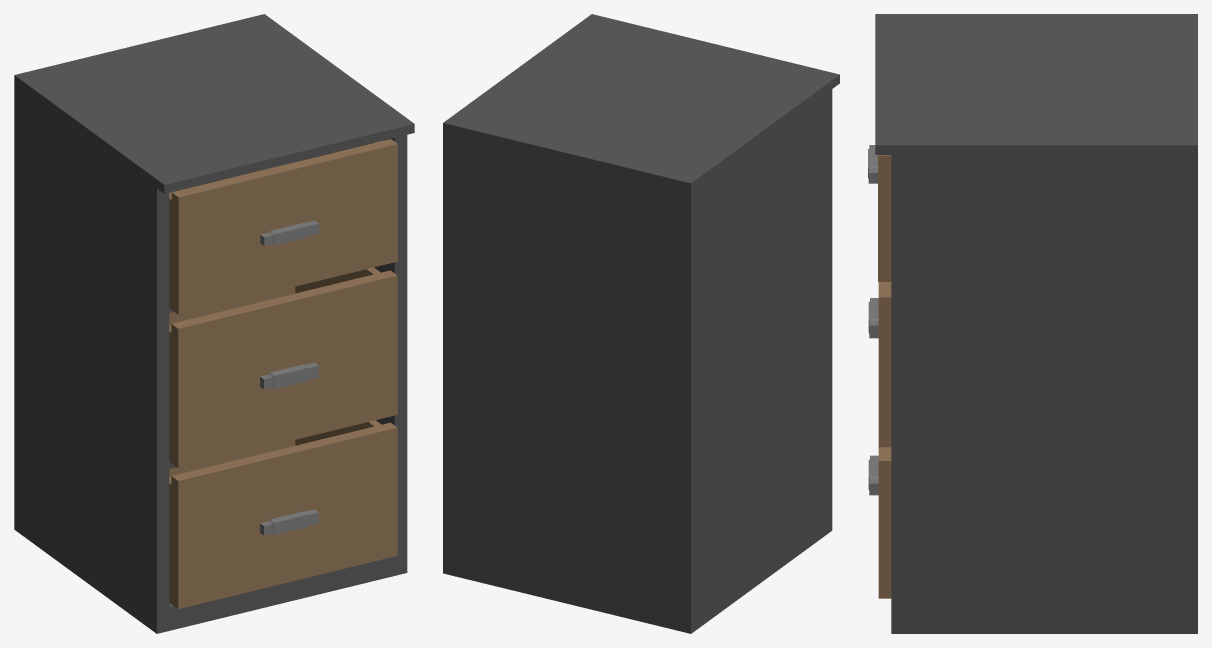
File: SmallCabinet_RuanganBoss.fbx
The picture shows the model from 3 angles, left to right: view 1: azimuth 30°, elevation 25°; view 2: azimuth 150°, elevation 25°; view 3: azimuth 270°, elevation 25°; orthographic projection. The views are drawn at different scales.
Parts seen in each view (by area): view 1: SmallCabinet_RuanganBoss, Drawer_RB, Drawer_RB3, Drawer_RB2; view 2: SmallCabinet_RuanganBoss; view 3: SmallCabinet_RuanganBoss, Drawer_RB, Drawer_RB3, Drawer_RB2.
Boxes of the visible parts, left/top/right/bottom form: SmallCabinet_RuanganBoss: left=14, top=14, right=414, bottom=633; Drawer_RB: left=169, top=267, right=397, bottom=468; Drawer_RB3: left=169, top=420, right=397, bottom=608; Drawer_RB2: left=169, top=139, right=397, bottom=314; SmallCabinet_RuanganBoss: left=443, top=14, right=839, bottom=633; SmallCabinet_RuanganBoss: left=875, top=14, right=1197, bottom=633; Drawer_RB: left=868, top=282, right=891, bottom=447; Drawer_RB3: left=868, top=447, right=891, bottom=598; Drawer_RB2: left=868, top=145, right=891, bottom=281.
Bounding box in the file's own units: 135 × 234 × 143.
